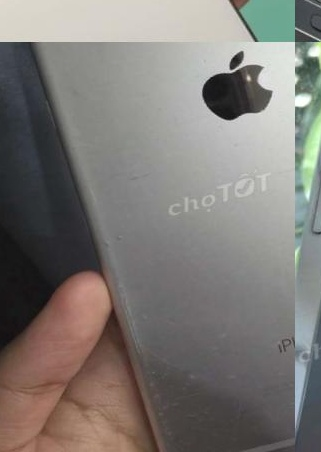scratch: (80, 205, 201, 452), (164, 294, 295, 448), (272, 231, 295, 289)
